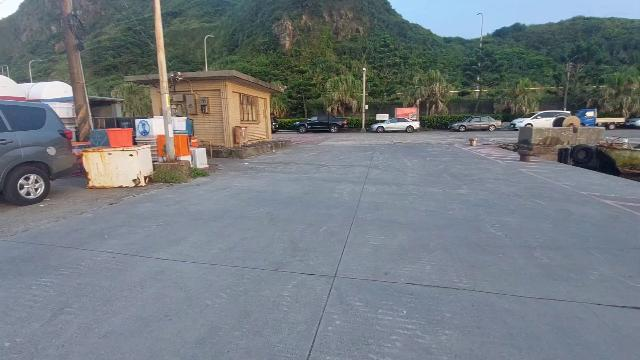pollute: (82, 143, 153, 186), (135, 118, 165, 161), (91, 128, 133, 148), (175, 137, 192, 166), (190, 148, 209, 168), (172, 117, 187, 135), (158, 135, 166, 162), (190, 135, 198, 148)
